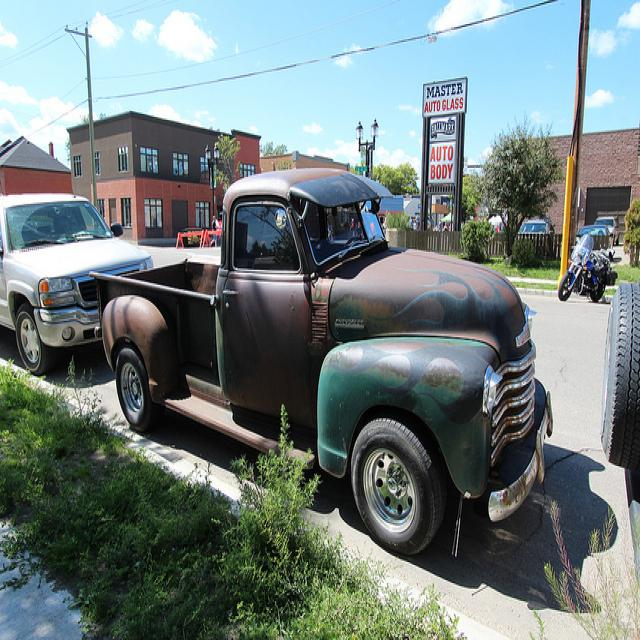motor: (558, 234, 619, 303)
